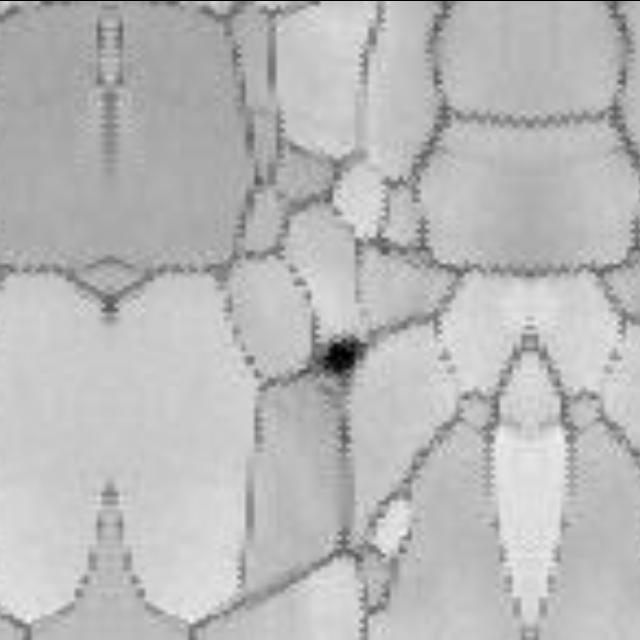good_void: (318, 333, 367, 379)
